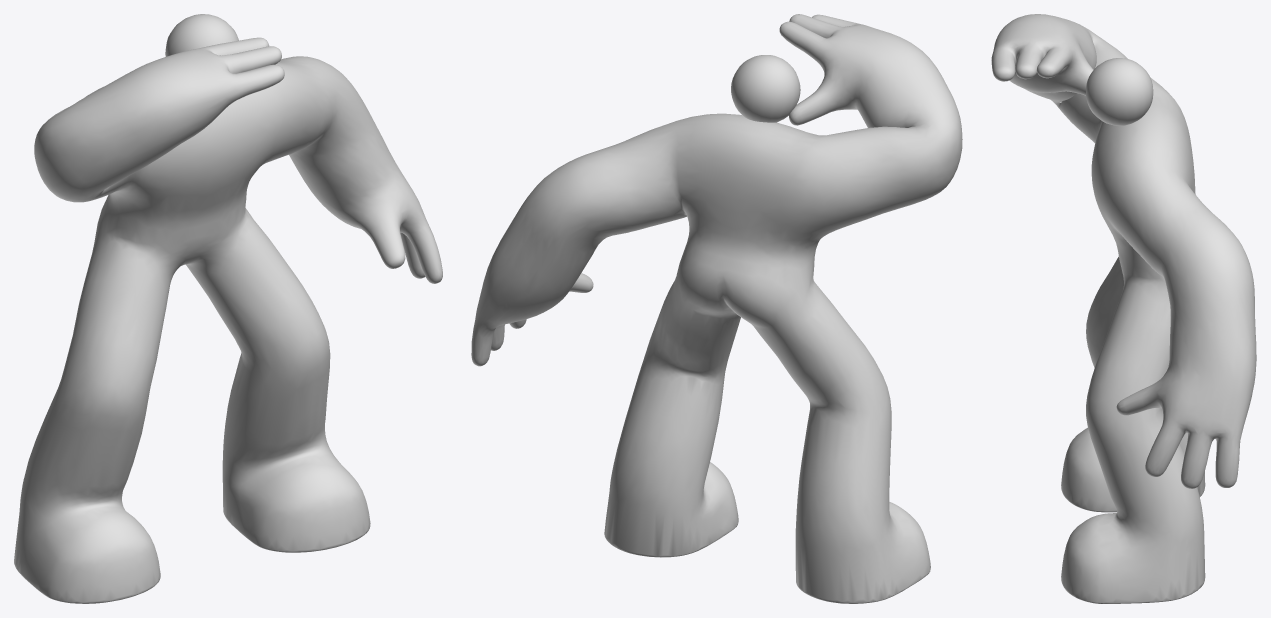
File: kv2-man4.gltf
3 renders of one model, left to right at view 1: azimuth 30°, elevation 25°; view 2: azimuth 150°, elevation 25°; view 3: azimuth 270°, elevation 25°, orthographic. The views are drawn at different scales.
Visible parts, largest first — view 1: Pose_4; view 2: Pose_4; view 3: Pose_4.
Part boxes in pixels (box(x1,y1,x2,y2)): Pose_4: box(14, 14, 442, 603); Pose_4: box(471, 14, 962, 603); Pose_4: box(991, 14, 1256, 603).
Bounding box in the file's own units: 26.88 × 30.87 × 15.38.
1 material, 1 textured.
